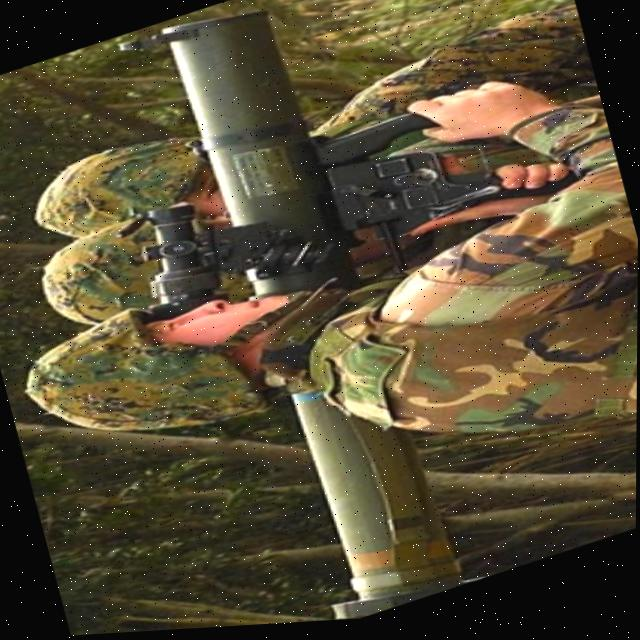rocket: (0, 0, 592, 640)
